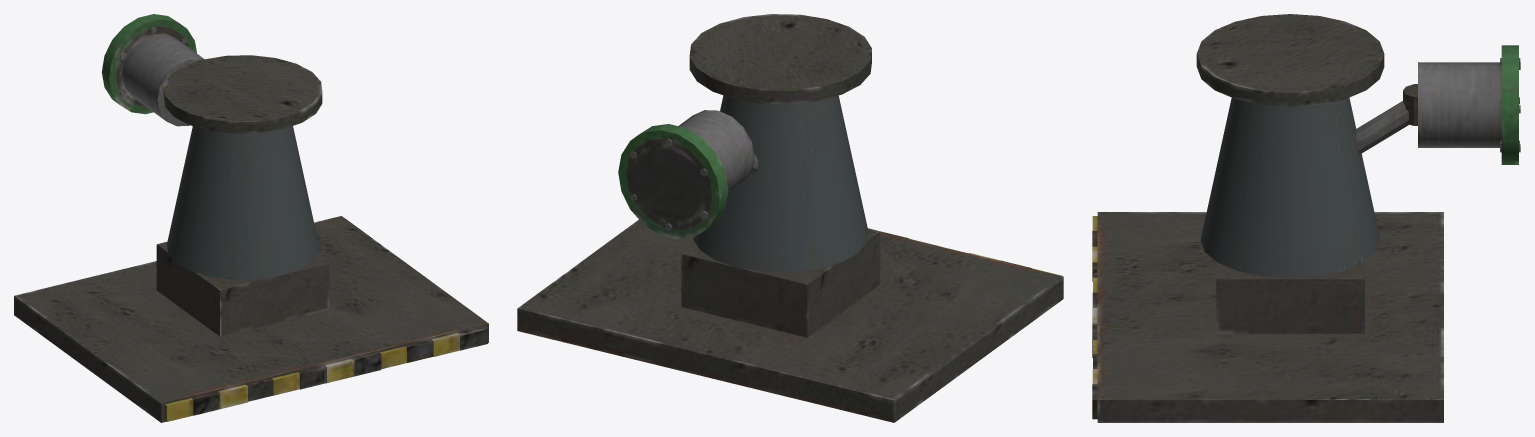
Rendered from feDoser.glb.
3 renders of one model, left to right at view 1: azimuth 30°, elevation 25°; view 2: azimuth 150°, elevation 25°; view 3: azimuth 270°, elevation 25°, orthographic. The views are drawn at different scales.
Visible parts, largest first — view 1: feDoser_Base; view 2: feDoser_Base; view 3: feDoser_Base.
Part boxes in pixels (x1,y1,x2,y2): feDoser_Base: (14, 14, 488, 422); feDoser_Base: (517, 14, 1063, 422); feDoser_Base: (1092, 14, 1520, 422).
Size of the model in its own units: 0.9012 by 0.6204 by 0.8675.
1 material, 1 textured.
